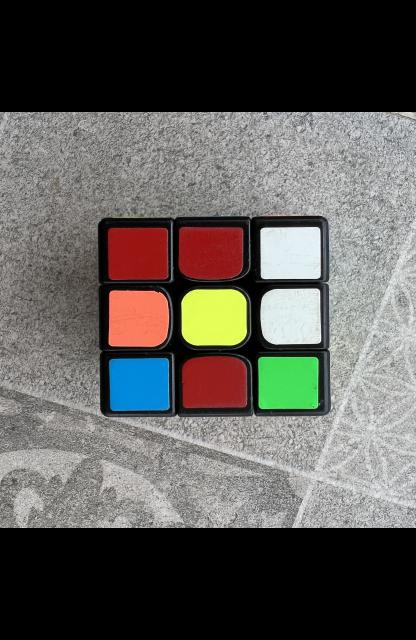Blue: (108, 358, 169, 411)
Green: (257, 357, 318, 409)
Orange: (107, 291, 168, 347)
Red: (178, 227, 242, 280), (180, 357, 245, 408), (107, 228, 167, 280)
White: (259, 289, 320, 345), (259, 227, 320, 279)
Yellow: (180, 289, 247, 346)
